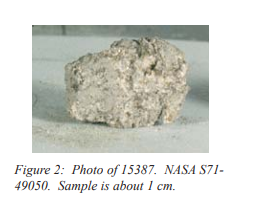Basalt: (45, 26, 192, 138)
